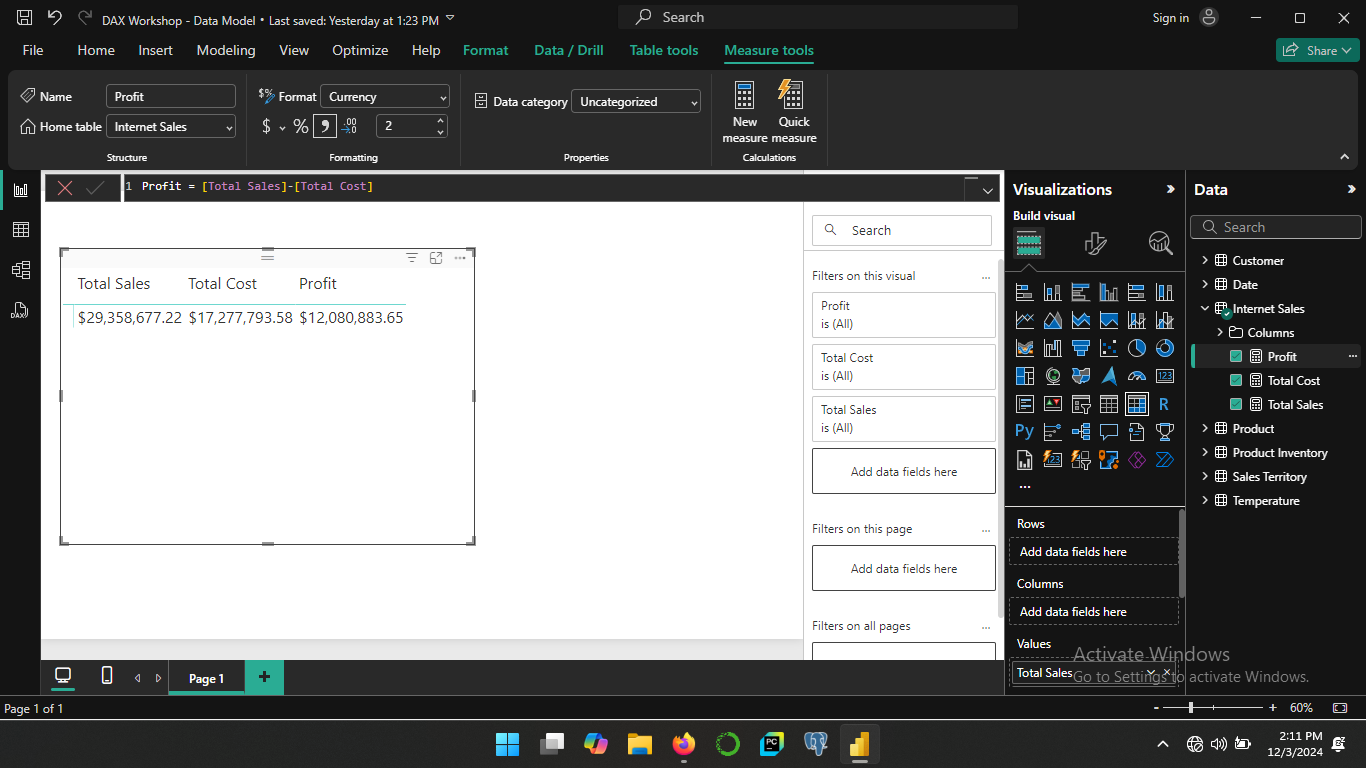

This screenshot's page, from the dashboard's own definition file:
{"tool":"powerbi","page":{"name":"Page 1","canvas":[1280,720],"ordinal":0},"visuals":[{"type":"pivotTable","fields":{"Values":["Internet Sales.Total Sales","Internet Sales.Total Cost","Internet Sales.Profit","Internet Sales.Profit Margin","Internet Sales.Total Sales(all countries excluding na)"],"Rows":["Sales Territory.Sales Territory Country"]},"box":[0,77.3,883.6,465.3],"z":1}]}

Visuals, with their boxes on the page's 1280x720 design canvas (x1, y1, x2, y2). These are canvas units, not pixel positions in the 1366x768 screenshot, which may show the page scaled, cropped or inside an application window:
pivotTable - Internet Sales.Total Sales x Internet Sales.Total Cost: [left=0, top=77, right=884, bottom=543]
